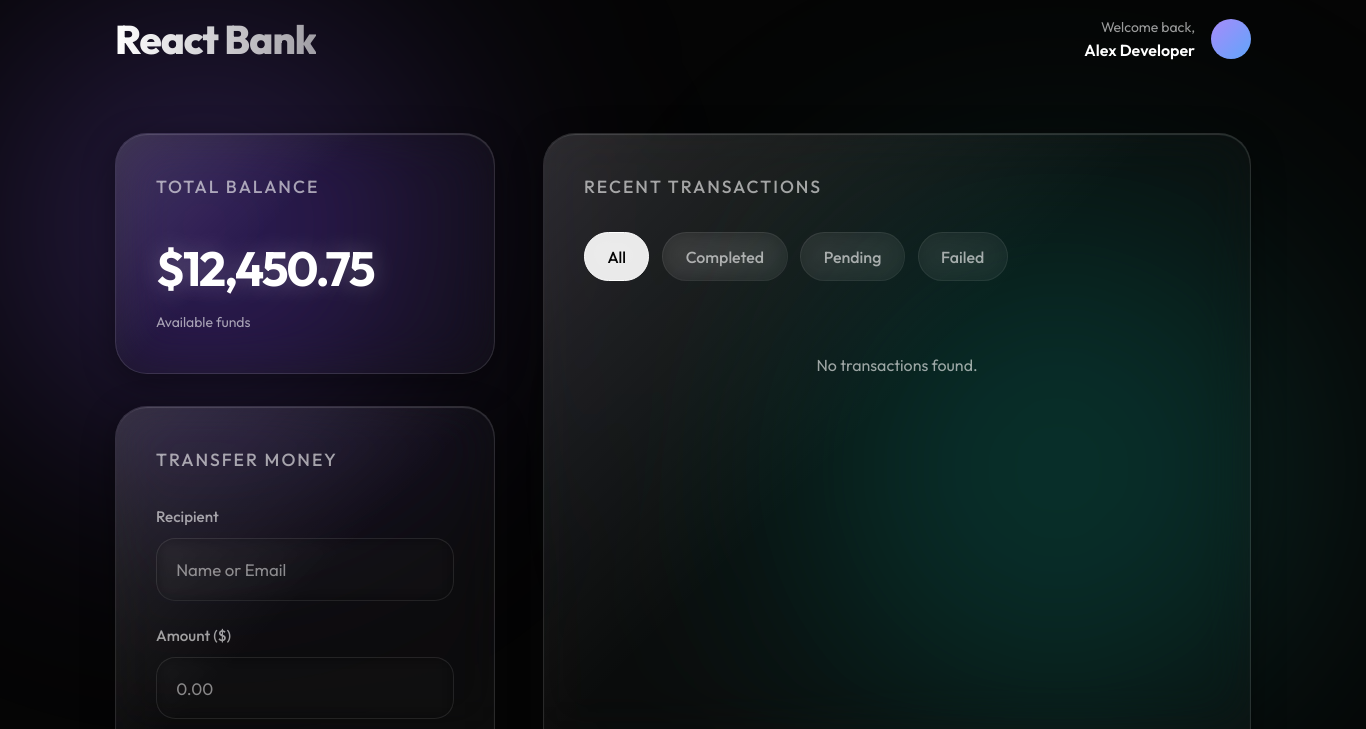
User Journey: Transfer Validation › Scenario: Sql injection
Expected: the heading "Total Balance" is shown, [156, 175, 319, 198]
Fill in the form with invalid Sql injection attempt
Type "DELETE FROM users WHERE 1=1;" into the field with placeholder "Name or Email" at (305, 569), box [156, 538, 454, 601]
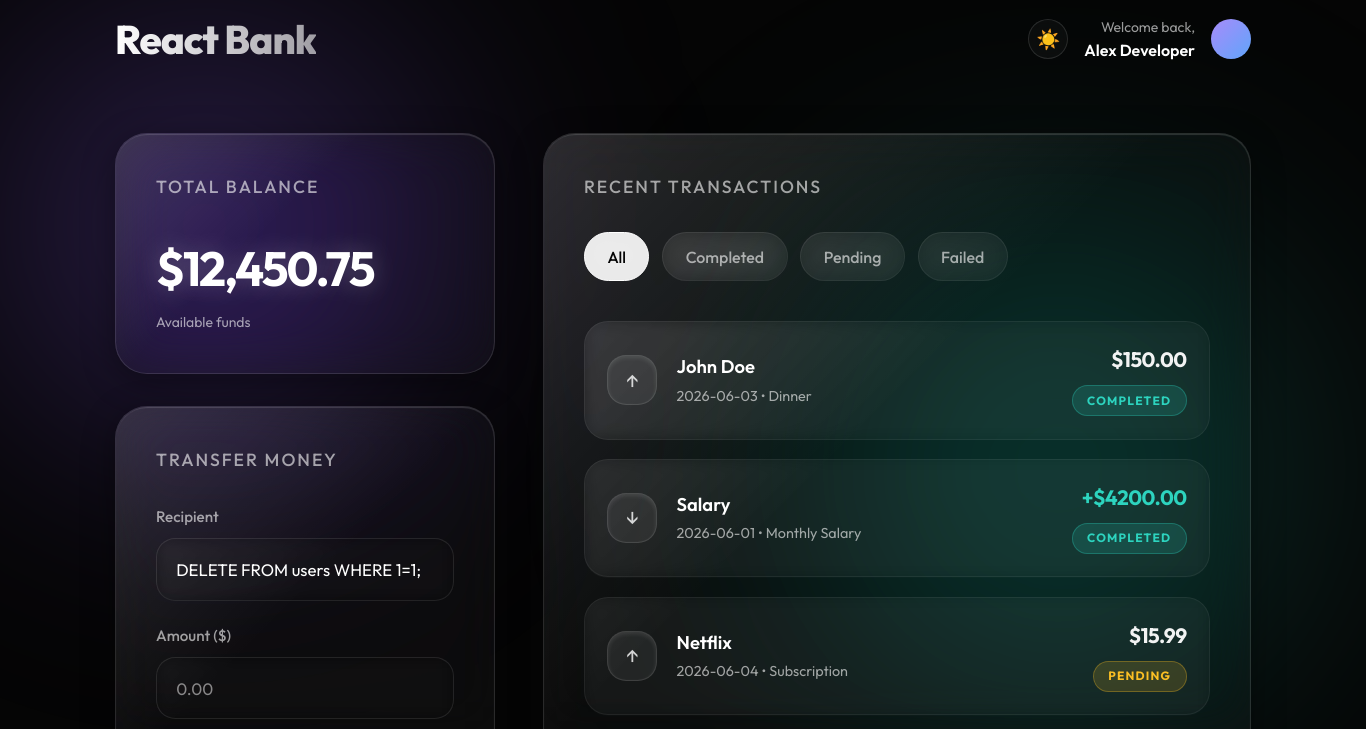
Type "999999.75" into the number field with placeholder "0.00" at (305, 688), box [156, 657, 454, 719]
(page scrolled)
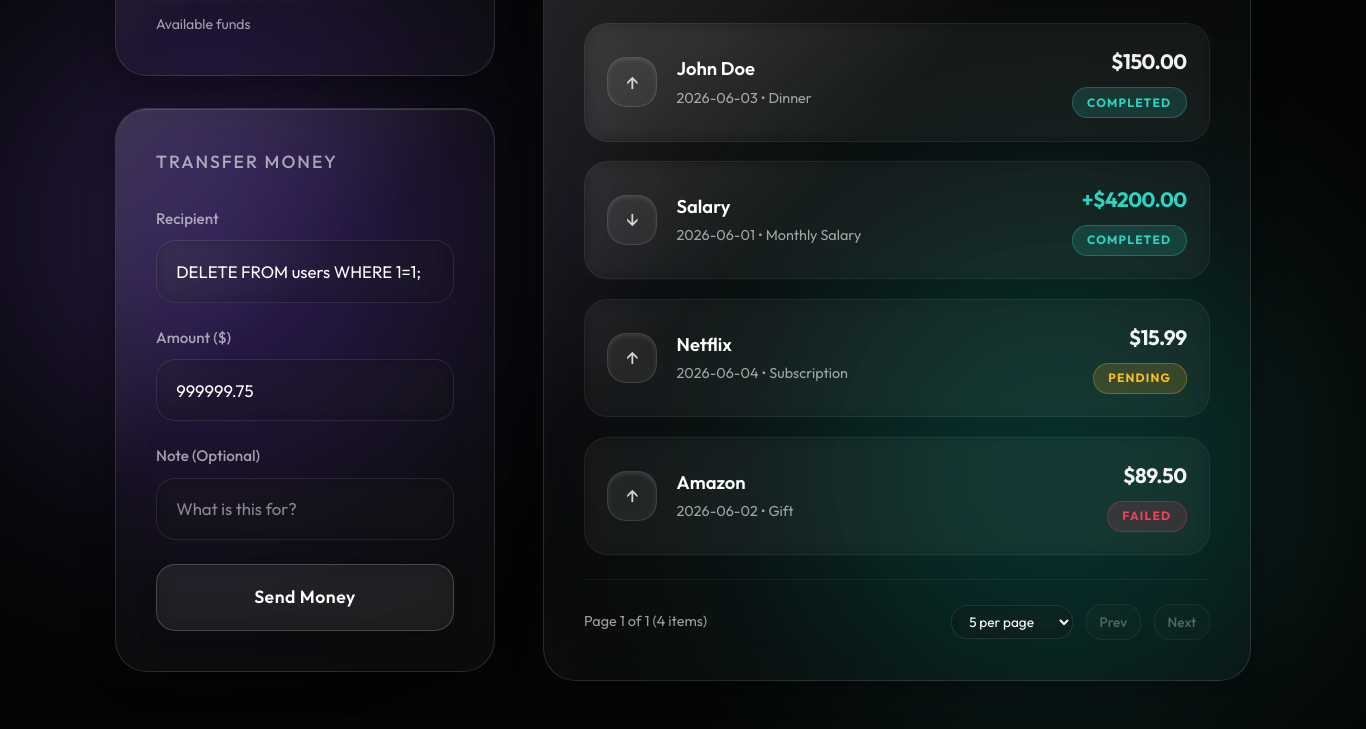
Type "Test transfer with Sql injection attempt" into the field with placeholder "What is this for?" at (305, 509), box [156, 478, 454, 540]
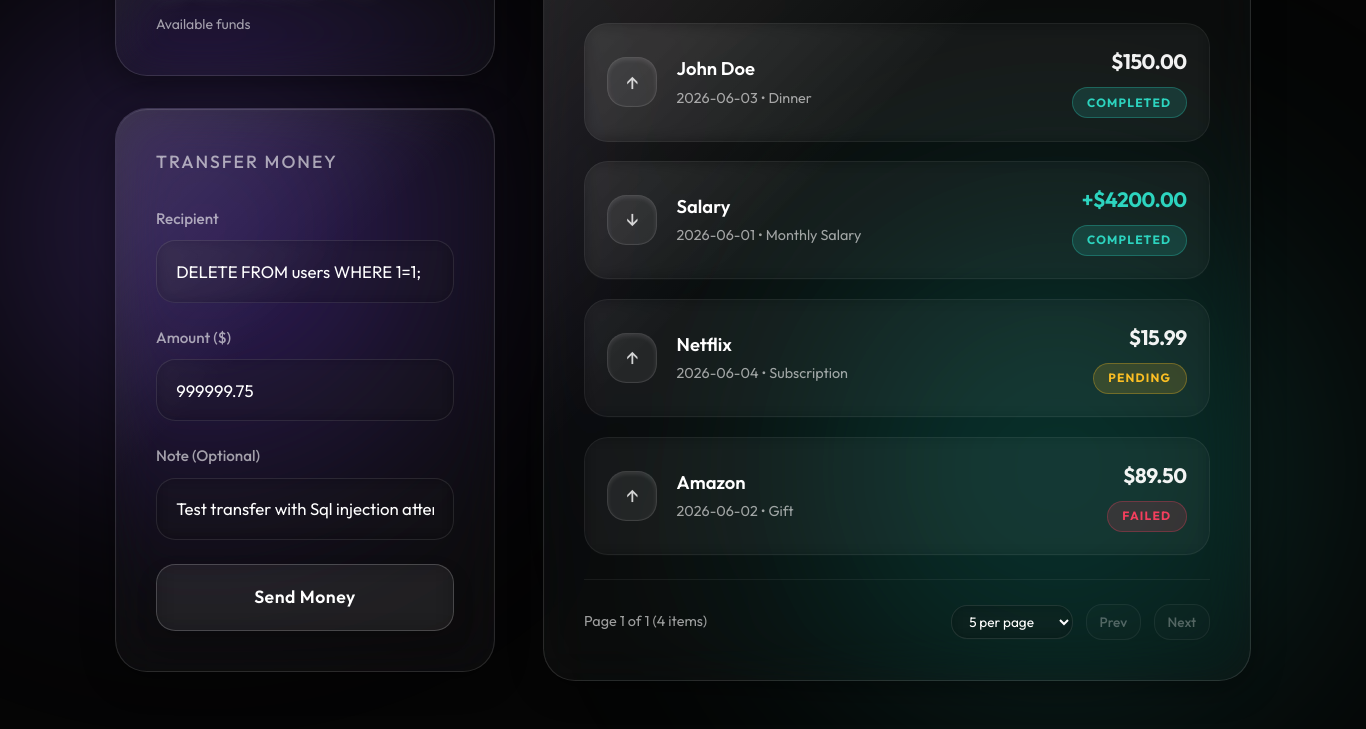
Simulate form submission
Click the button "Send Money" at (305, 598), box [156, 564, 454, 631]
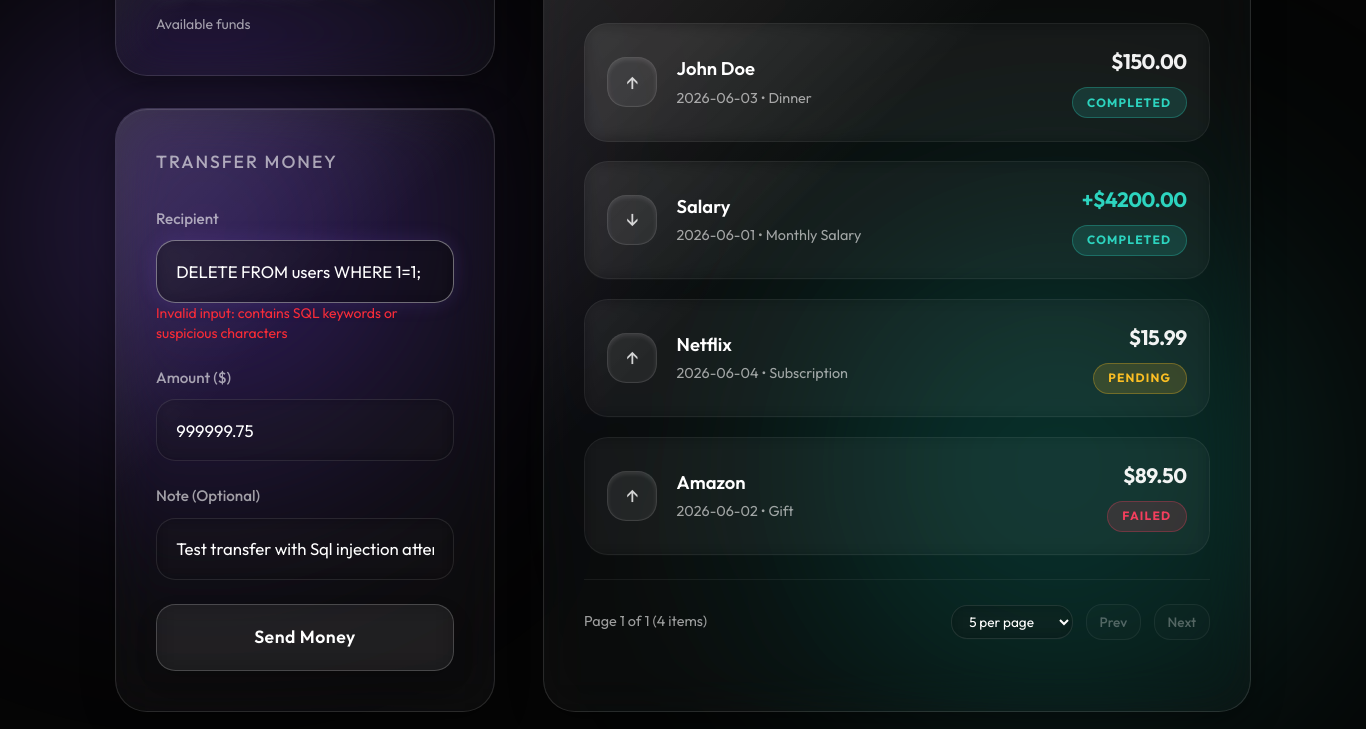
Now the text "Invalid input: contains SQL keywords or suspicious characters" is shown, box [156, 304, 398, 342]
